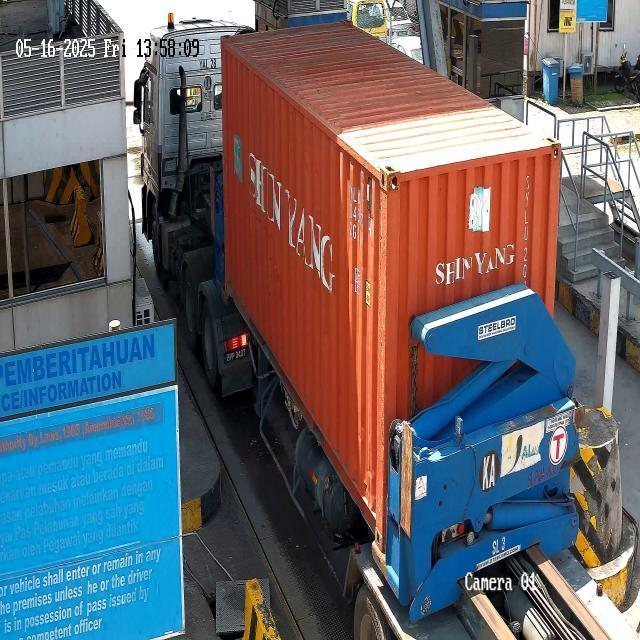ISO: (342, 221, 366, 243)
container_number: (348, 187, 378, 230)
